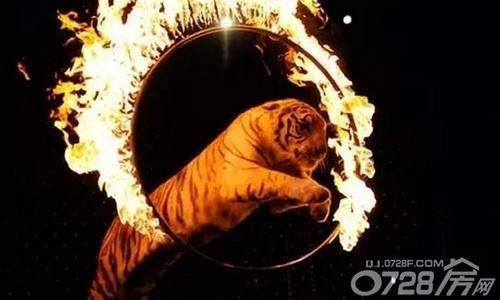fire: (47, 0, 374, 280)
